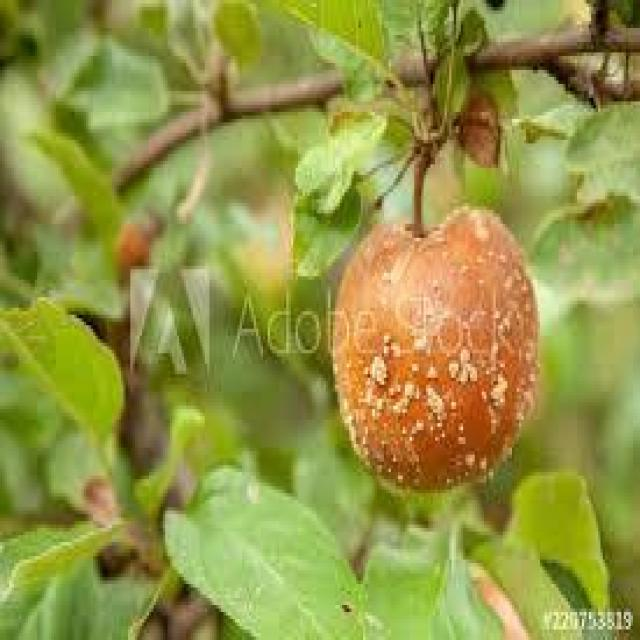maca: (328, 203, 540, 493)
